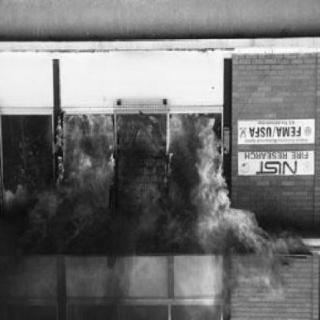Fire: (28, 112, 240, 254), (181, 209, 311, 317)
